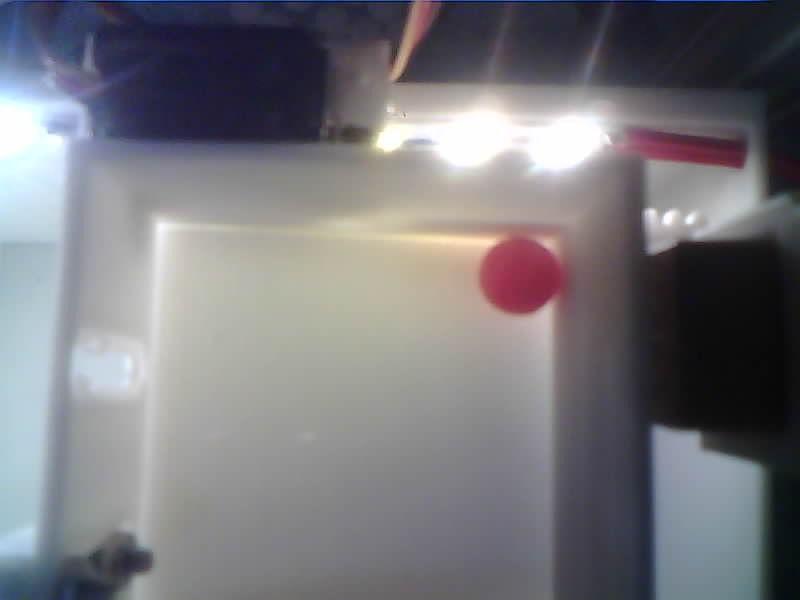Plastic: (478, 238, 560, 317)
